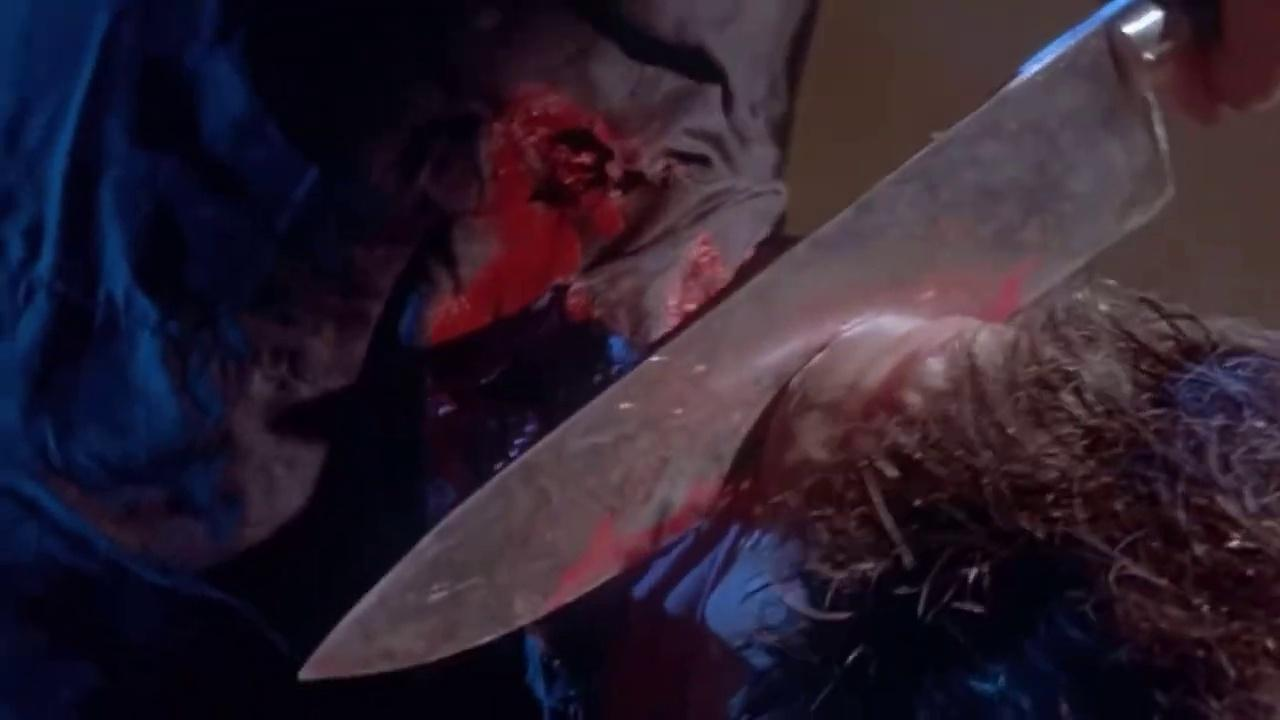Fire: (392, 83, 673, 522)
